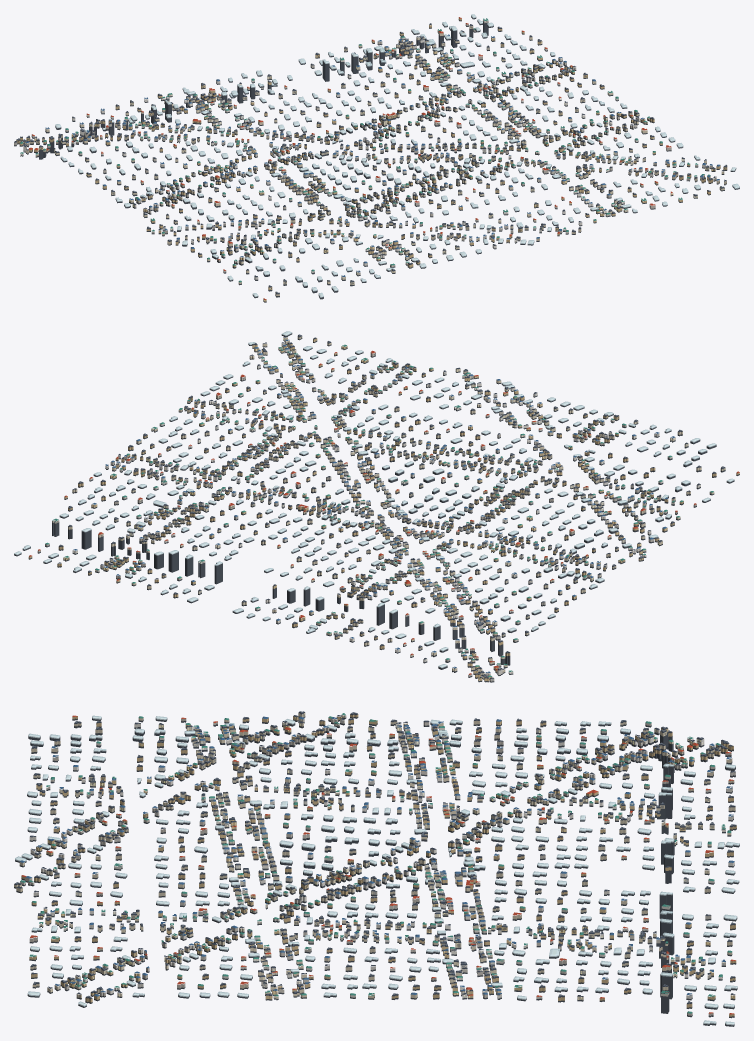
Rendered from osm_buildings_T_E04_S02.glb.
The picture shows the model from 3 angles, top to bottom: view 1: azimuth 30°, elevation 25°; view 2: azimuth 150°, elevation 25°; view 3: azimuth 270°, elevation 25°; orthographic projection. The views are drawn at different scales.
Visible parts, largest first — view 1: OSM_T_E04_S02_foundation, OSM_T_E04_S02_greenhouse_blend, OSM_T_E04_S02_wall_cream_stucco, OSM_T_E04_S02_wall_french_ochre, OSM_T_E04_S02_roof_mansard_slate, OSM_T_E04_S02_wall_warm_white, OSM_T_E04_S02_wall_pastel_sand, OSM_T_E04_S02_roof_mansard_deck, OSM_T_E04_S02_roof_alpine_blue, OSM_T_E04_S02_roof_mint_metal, OSM_T_E04_S02_roof_terracotta, OSM_T_E04_S02_balcony_railing; view 2: OSM_T_E04_S02_foundation, OSM_T_E04_S02_greenhouse_blend, OSM_T_E04_S02_wall_cream_stucco, OSM_T_E04_S02_wall_french_ochre, OSM_T_E04_S02_roof_mansard_slate, OSM_T_E04_S02_wall_warm_white, OSM_T_E04_S02_wall_pastel_sand, OSM_T_E04_S02_roof_mansard_deck, OSM_T_E04_S02_roof_mint_metal, OSM_T_E04_S02_roof_alpine_blue, OSM_T_E04_S02_roof_terracotta; view 3: OSM_T_E04_S02_foundation, OSM_T_E04_S02_greenhouse_blend, OSM_T_E04_S02_wall_cream_stucco, OSM_T_E04_S02_wall_french_ochre, OSM_T_E04_S02_roof_mansard_slate, OSM_T_E04_S02_wall_warm_white, OSM_T_E04_S02_wall_pastel_sand, OSM_T_E04_S02_roof_mansard_deck, OSM_T_E04_S02_roof_alpine_blue, OSM_T_E04_S02_roof_mint_metal, OSM_T_E04_S02_roof_terracotta.
Boxes of the visible parts, box(x1,y1,x2,y2) form: OSM_T_E04_S02_foundation: box(14, 16, 739, 302); OSM_T_E04_S02_greenhouse_blend: box(55, 14, 739, 297); OSM_T_E04_S02_wall_cream_stucco: box(22, 26, 726, 295); OSM_T_E04_S02_wall_french_ochre: box(16, 18, 727, 301); OSM_T_E04_S02_roof_mansard_slate: box(14, 23, 727, 294); OSM_T_E04_S02_wall_warm_white: box(20, 37, 706, 279); OSM_T_E04_S02_wall_pastel_sand: box(14, 20, 716, 275); OSM_T_E04_S02_roof_mansard_deck: box(16, 24, 726, 293); OSM_T_E04_S02_roof_alpine_blue: box(25, 34, 720, 276); OSM_T_E04_S02_roof_mint_metal: box(20, 18, 710, 282); OSM_T_E04_S02_roof_terracotta: box(29, 17, 672, 299); OSM_T_E04_S02_balcony_railing: box(17, 27, 725, 289); OSM_T_E04_S02_foundation: box(14, 333, 739, 682); OSM_T_E04_S02_greenhouse_blend: box(14, 331, 734, 667); OSM_T_E04_S02_wall_cream_stucco: box(68, 336, 725, 678); OSM_T_E04_S02_wall_french_ochre: box(28, 338, 739, 681); OSM_T_E04_S02_roof_mansard_slate: box(58, 335, 725, 678); OSM_T_E04_S02_wall_warm_white: box(72, 348, 700, 674); OSM_T_E04_S02_wall_pastel_sand: box(37, 343, 696, 681); OSM_T_E04_S02_roof_mansard_deck: box(59, 334, 724, 677); OSM_T_E04_S02_roof_mint_metal: box(45, 344, 713, 676); OSM_T_E04_S02_roof_alpine_blue: box(73, 339, 675, 672); OSM_T_E04_S02_roof_terracotta: box(29, 350, 739, 674); OSM_T_E04_S02_foundation: box(14, 716, 739, 1026); OSM_T_E04_S02_greenhouse_blend: box(15, 715, 739, 1025); OSM_T_E04_S02_wall_cream_stucco: box(14, 713, 735, 1000); OSM_T_E04_S02_wall_french_ochre: box(21, 714, 736, 1016); OSM_T_E04_S02_roof_mansard_slate: box(14, 712, 736, 1004); OSM_T_E04_S02_wall_warm_white: box(20, 719, 735, 998); OSM_T_E04_S02_wall_pastel_sand: box(25, 715, 731, 1015); OSM_T_E04_S02_roof_mansard_deck: box(15, 711, 735, 1002); OSM_T_E04_S02_roof_alpine_blue: box(19, 716, 734, 996); OSM_T_E04_S02_roof_mint_metal: box(20, 713, 732, 1013); OSM_T_E04_S02_roof_terracotta: box(21, 715, 735, 1014).
Size of the model in its own units: 1980 by 156 by 1926.
